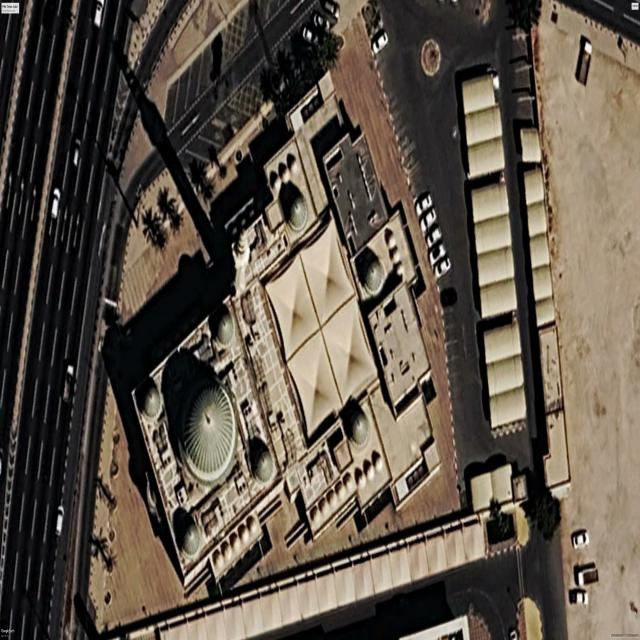mosque: (134, 73, 440, 588)
